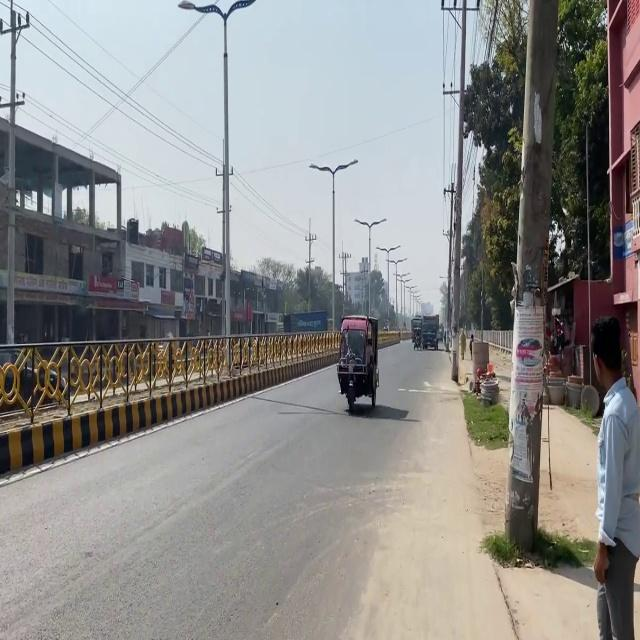Bench: (335, 313, 380, 412)
Fallen-tree: (412, 328, 422, 351)
Garbage-bin: (590, 315, 639, 639)
Light-pole: (503, 0, 559, 553)
Pole: (4, 328, 236, 478)
Pothole: (454, 333, 638, 638)
Traffic-cone: (420, 314, 439, 350)
